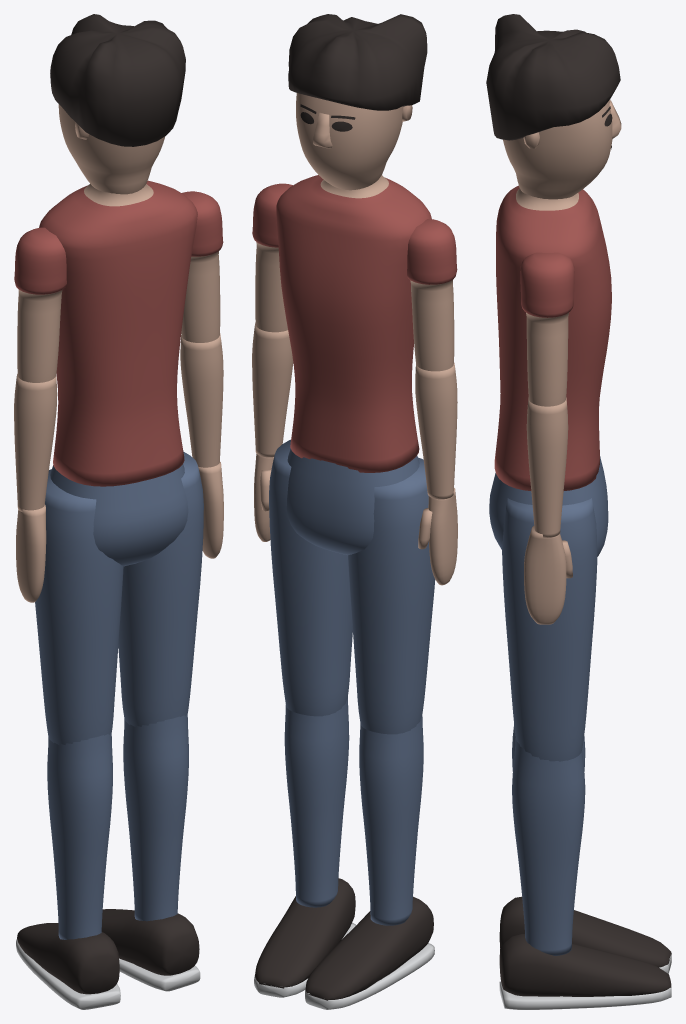
The model's file is peter.glb.
3 renders of one model, left to right at view 1: azimuth 30°, elevation 25°; view 2: azimuth 150°, elevation 25°; view 3: azimuth 270°, elevation 25°, orthographic.
Visible parts, largest first — view 1: body_shirt, body_jeansR, body_jeansL, body_hair, body_shinR, body_shinL, body_hips, body_armR, body_shoeR, body_shoeL, body_forearmR, body_armL (+4 smaller); view 2: body_shirt, body_jeansR, body_jeansL, body_hair, body_shinR, body_shinL, body_shoeR, body_hips, body_head, body_armR, body_shoeL, body_forearmR (+4 smaller); view 3: body_shirt, body_jeansL, body_hair, body_shinL, body_shoeL, body_armL, body_head, body_forearmL, body_shoeR, body_handL, body_hips.
Boxes of the visible parts, <box> form: body_shirt: <box>39,180,197,486</box>; body_jeansR: <box>35,469,123,744</box>; body_jeansL: <box>118,451,203,726</box>; body_hair: <box>50,14,185,146</box>; body_shinR: <box>47,733,112,939</box>; body_shinL: <box>123,714,188,921</box>; body_hips: <box>50,464,188,566</box>; body_armR: <box>14,227,66,382</box>; body_shoeR: <box>16,923,120,1009</box>; body_shoeL: <box>101,909,200,991</box>; body_forearmR: <box>14,374,57,511</box>; body_armL: <box>181,191,223,342</box>; body_shirt: <box>276,175,431,472</box>; body_jeansR: <box>348,457,435,734</box>; body_jeansL: <box>269,439,352,716</box>; body_hair: <box>288,14,427,110</box>; body_shinR: <box>359,716,423,925</box>; body_shinL: <box>284,697,349,907</box>; body_shoeR: <box>305,896,434,1009</box>; body_hips: <box>286,449,419,554</box>; body_head: <box>296,93,412,190</box>; body_armR: <box>407,219,457,371</box>; body_shoeL: <box>254,878,355,997</box>; body_forearmR: <box>415,362,457,499</box>; body_shirt: <box>494,185,611,490</box>; body_jeansL: <box>502,498,597,761</box>; body_hair: <box>486,14,620,140</box>; body_shinL: <box>512,737,585,955</box>; body_shoeL: <box>499,934,671,1009</box>; body_armL: <box>520,252,574,406</box>; body_head: <box>503,99,621,199</box>; body_forearmL: <box>526,397,568,537</box>; body_shoeR: <box>499,896,671,973</box>; body_handL: <box>524,526,572,624</box>; body_hips: <box>489,456,608,556</box>.
Size of the model in its own units: 0.3574 by 1.6 by 0.2826.
